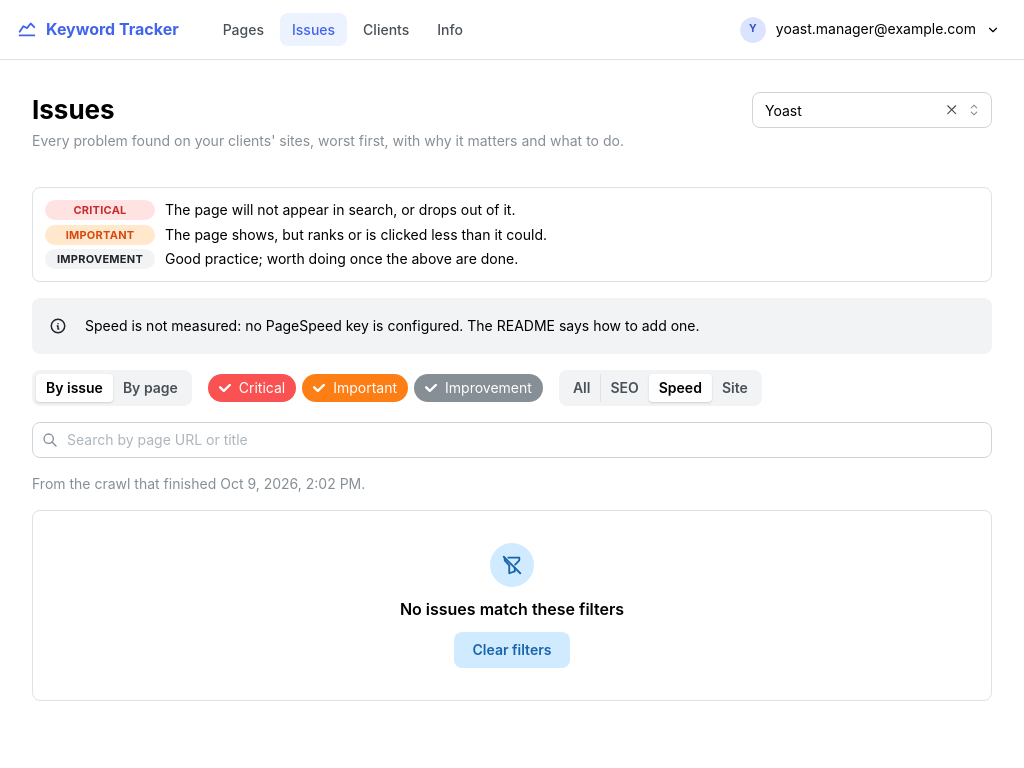
IssuesScreen › says when the filters hide everything, and clears them
Click the button "Clear filters". click: x=512, y=650
box: [454, 632, 570, 668]
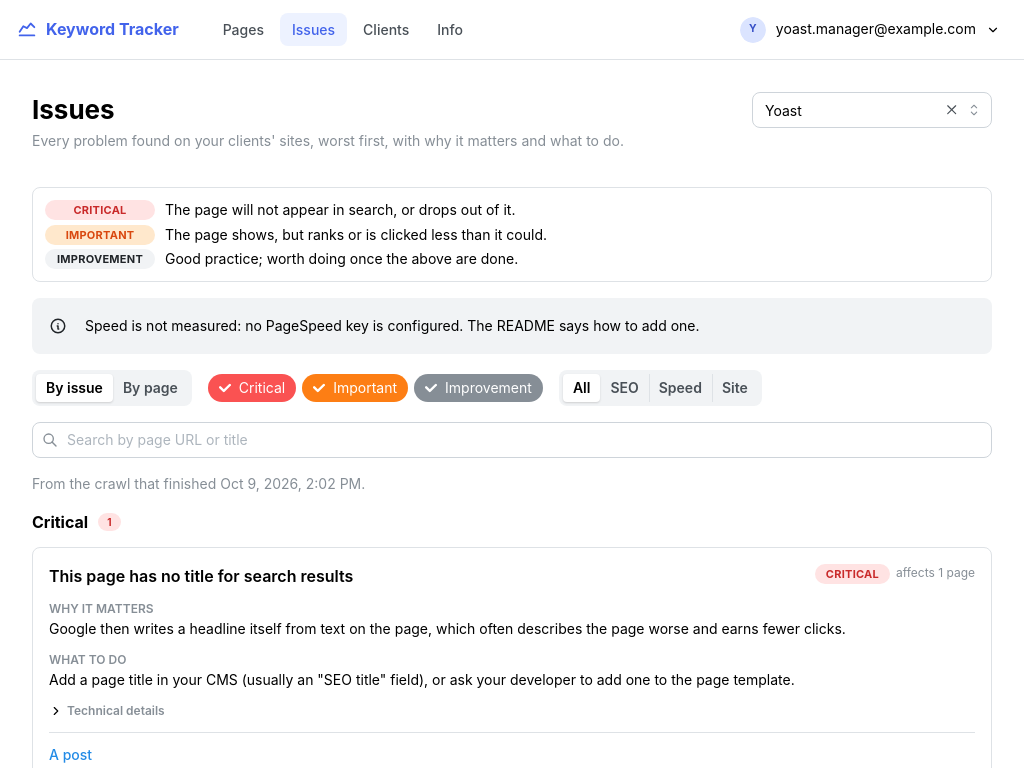
Result: the text "This page has no title for search results" is shown at [49, 564, 353, 589]
